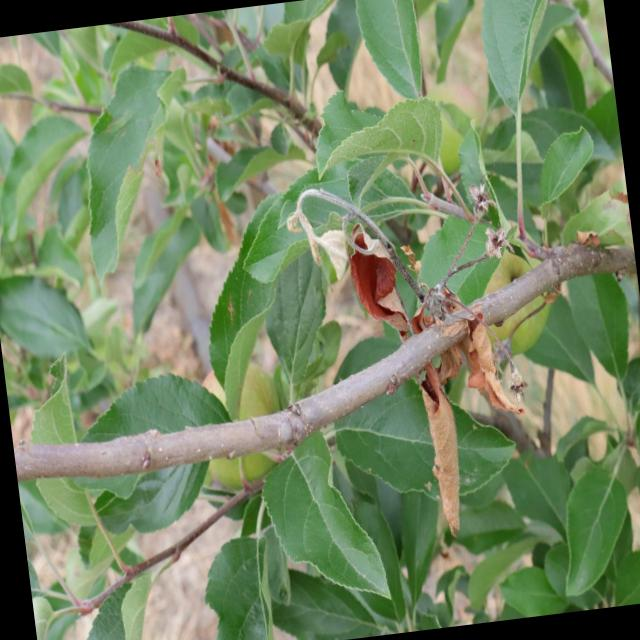-FireBlight-: (306, 173, 536, 549)
